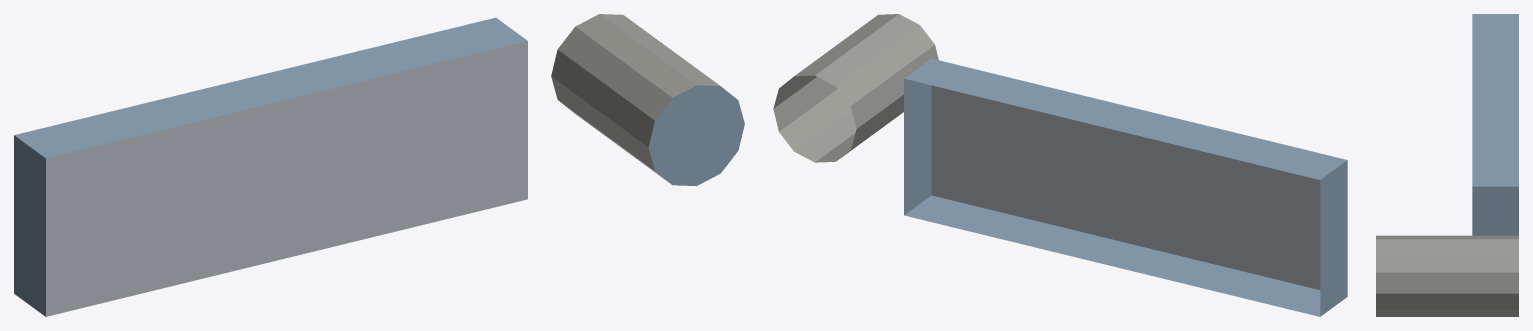
The model's file is island_bldg_16_04.obj.
3 views of the same model, side by side, from view 1: azimuth 30°, elevation 25°; view 2: azimuth 150°, elevation 25°; view 3: azimuth 270°, elevation 25° (orthographic). The views are drawn at different scales.
Parts seen in each view (by area): view 1: island_bldg_16_04; view 2: island_bldg_16_04; view 3: island_bldg_16_04.
Part boxes in pixels (x1,y1,x2,y2): island_bldg_16_04: (14, 14, 744, 316); island_bldg_16_04: (773, 14, 1347, 316); island_bldg_16_04: (1376, 14, 1518, 316).
Bounding box in the file's own units: 184 × 44 × 49.
